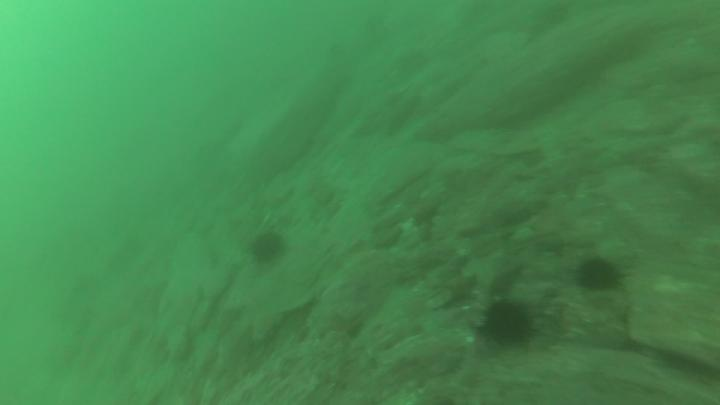echinus: (487, 304, 529, 345), (581, 260, 620, 291), (252, 236, 282, 264)
